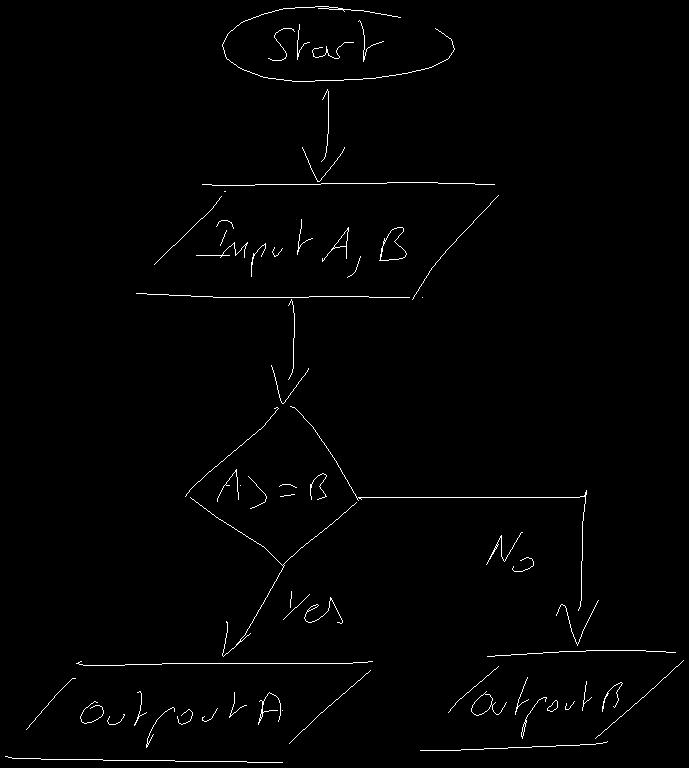arrow: (358, 490, 598, 645), (222, 564, 284, 656), (302, 89, 344, 181), (271, 299, 308, 403)
data: (136, 182, 498, 299), (5, 661, 372, 762), (420, 650, 683, 750)
decision: (185, 406, 358, 566)
terminator: (222, 6, 454, 81)
text: (196, 219, 406, 277), (80, 691, 282, 747), (471, 677, 622, 738), (268, 20, 383, 61), (217, 469, 326, 508), (283, 591, 342, 623), (486, 532, 533, 571)
